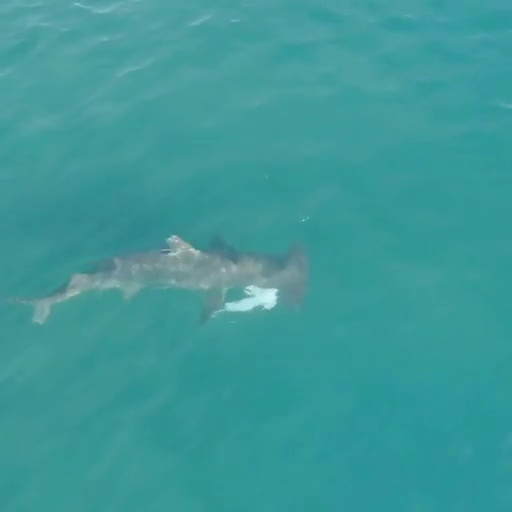shark: (7, 229, 311, 329)
